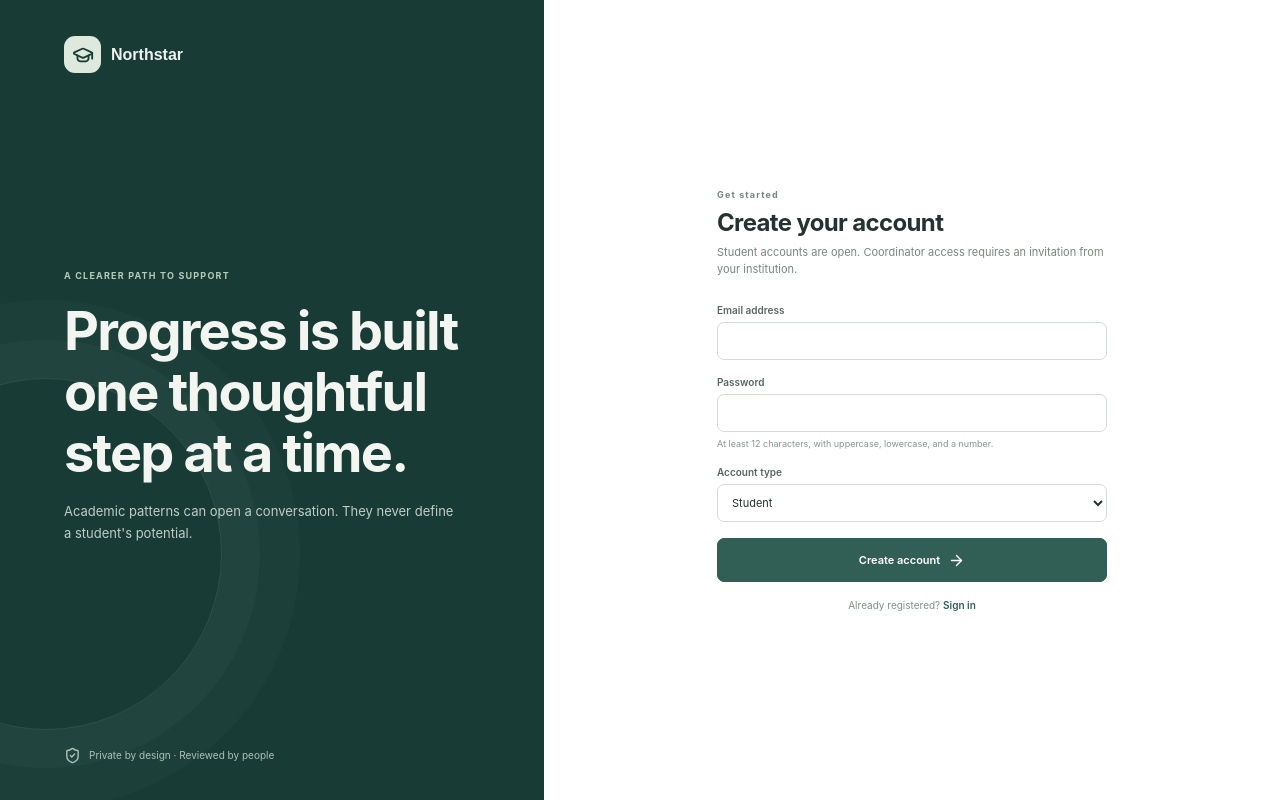
Test: student and coordinator frontend flows › shows the coordinator invite error returned by registration
Type "coordinator@example.edu" into the field labelled "Email address" at [912, 341], box [717,322,1107,360]
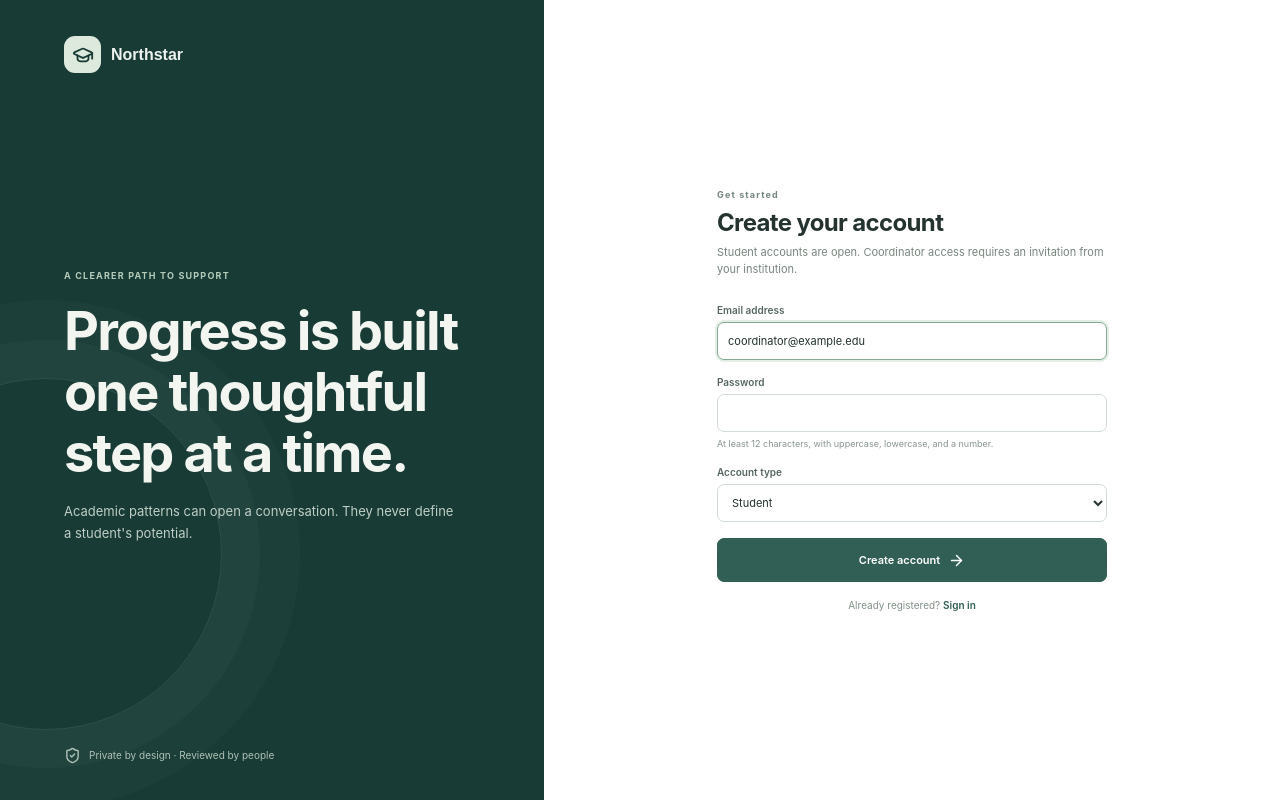
Type "SecurePass1234" into the password field labelled "Password" at [912, 413], box [717,394,1107,432]
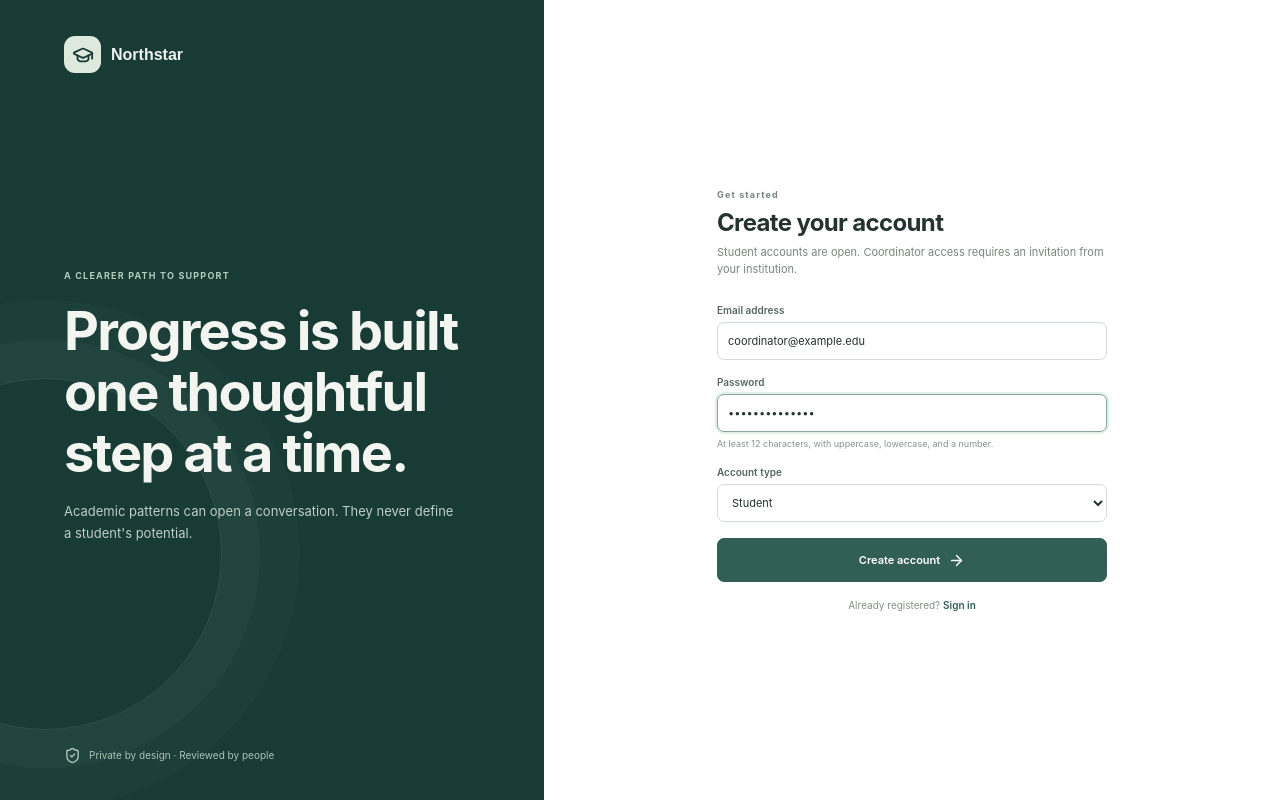
Select "Coordinator" in the dropdown labelled "Account type" at [912, 503], box [717,484,1107,522]
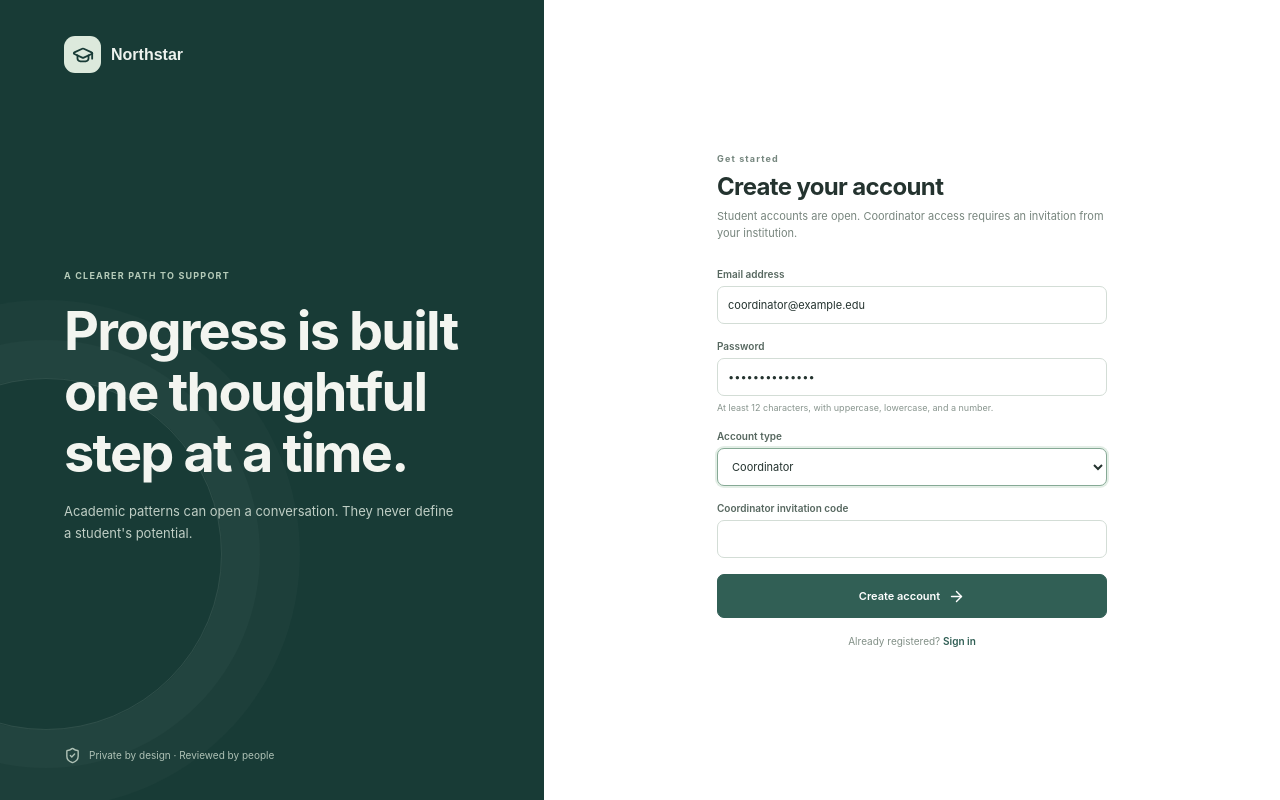
Type "wrong-invite" into the password field labelled "Coordinator invitation code" at [912, 539], box [717,520,1107,558]
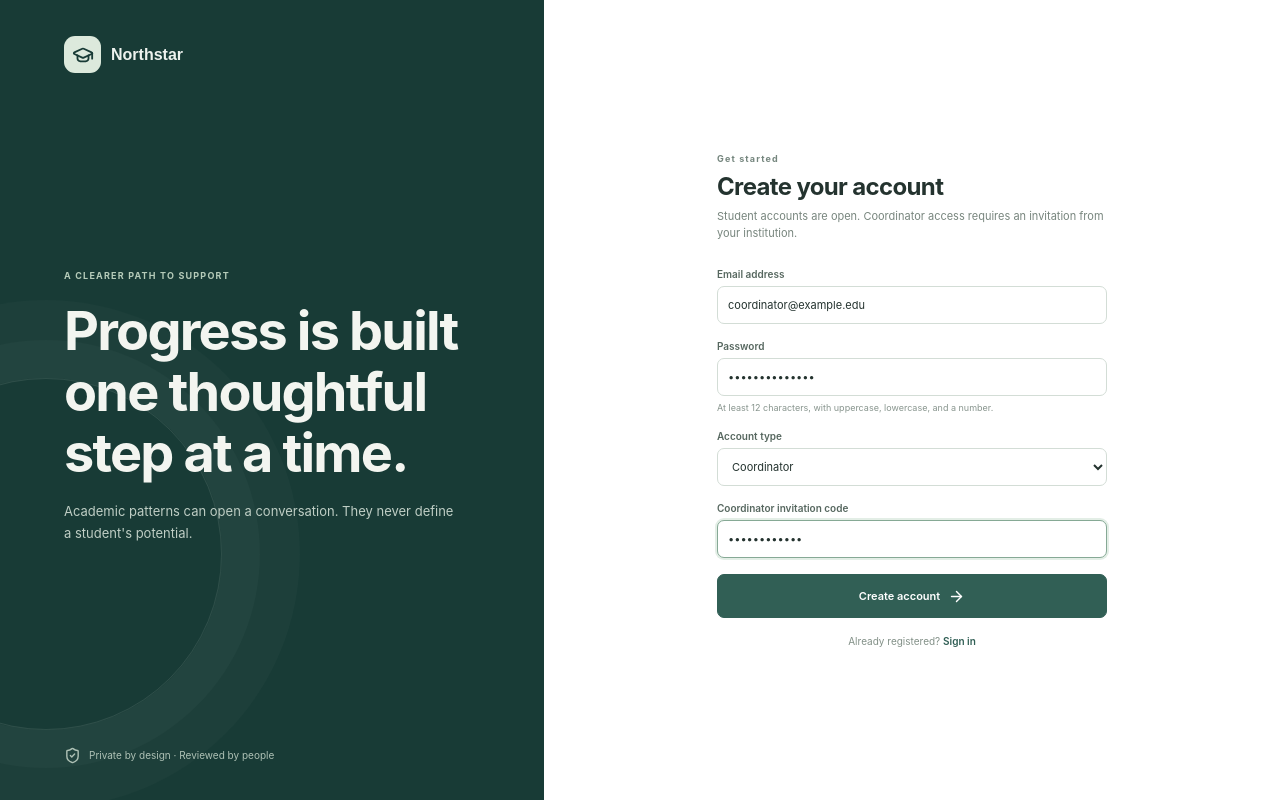
Click the button "Create account" at [912, 596], box [717,574,1107,618]
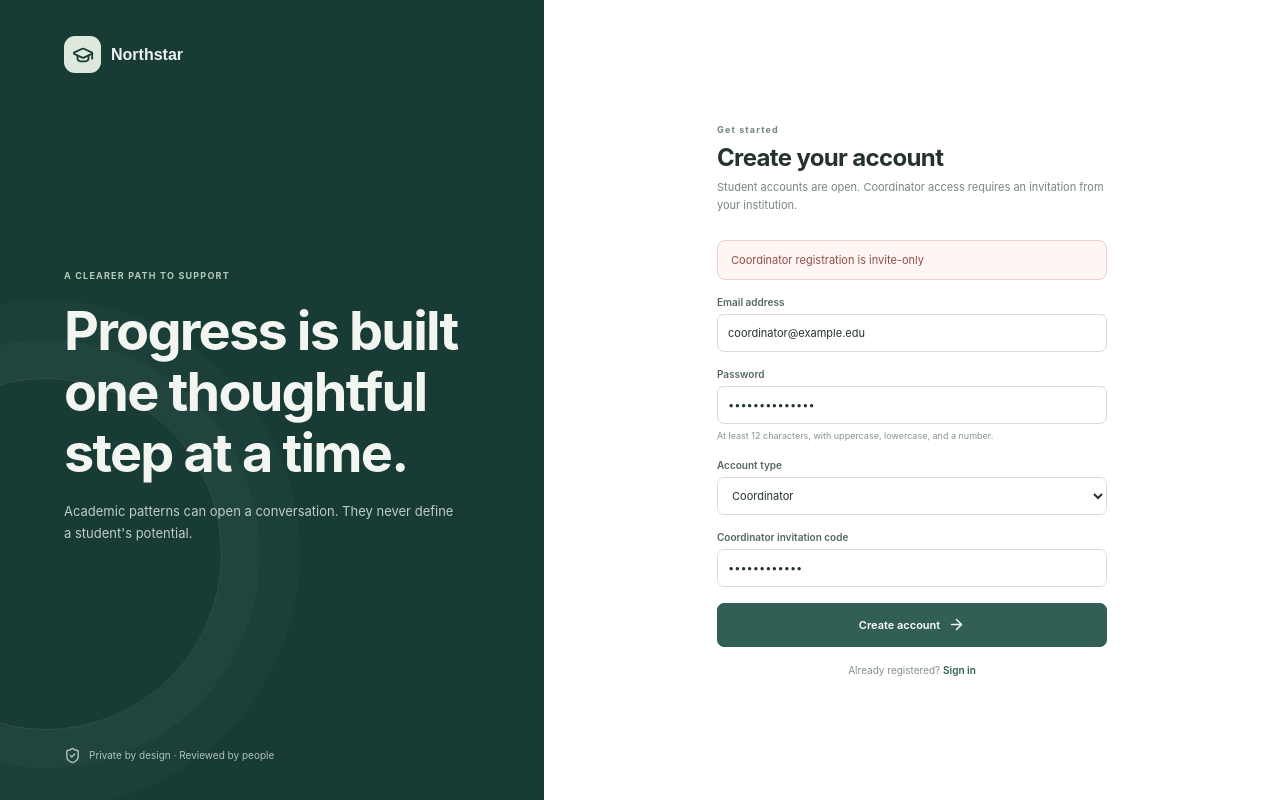
Now the message reads "Coordinator registration is invite-only", box [731,252,924,266]
